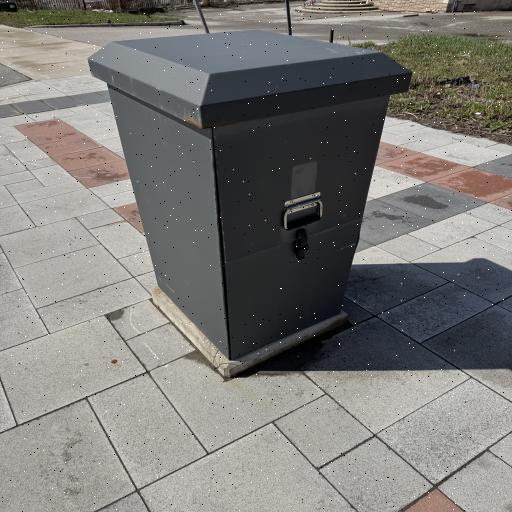Electrical Box: (84, 26, 416, 358)
